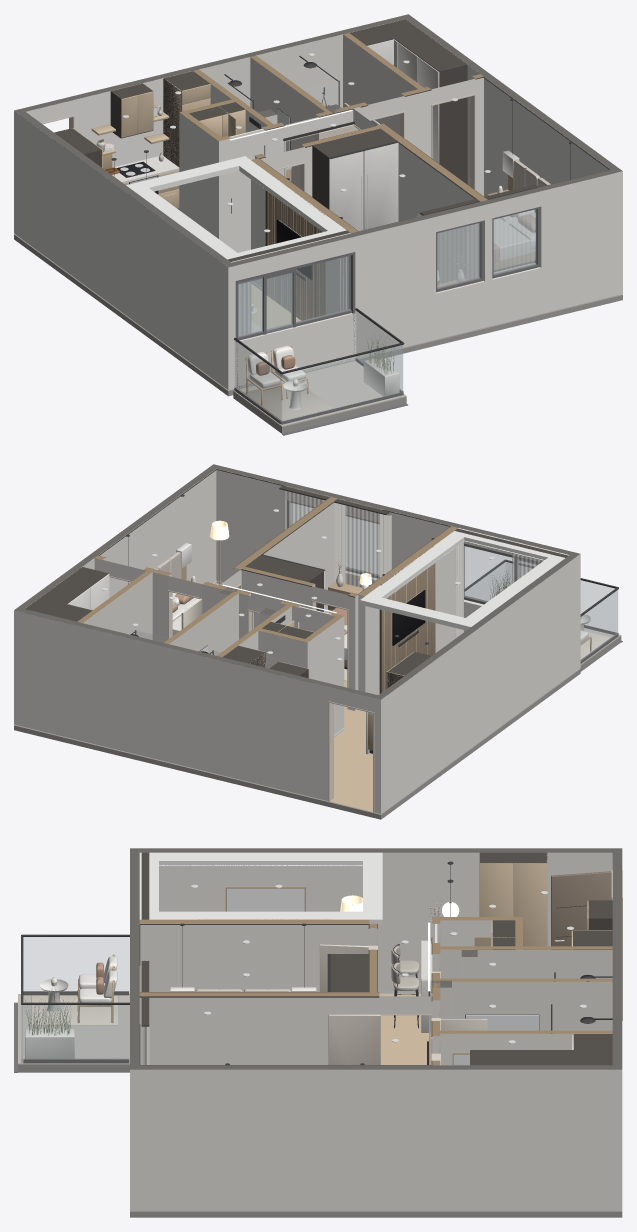
The model's file is apto-102-v5.glb.
3 renders of one model, top to bottom at view 1: azimuth 30°, elevation 25°; view 2: azimuth 150°, elevation 25°; view 3: azimuth 270°, elevation 25°, orthographic. The views are drawn at different scales.
Visible parts, largest first — view 1: ARQ_Muros, PRO_Muros_interiores, ILU_Revestimientos, PROP_Balcon_baranda, ARQ_Dinteles_Antepechos, MOB_Habitacion_2, APA_Cocina, MOB_Vestier, ILU_Cielo_detalles, ILU_Ventana_sala, ILU_Ventaneria, MOB_Sala (+11 smaller); view 2: ARQ_Muros, PRO_Muros_interiores, ILU_Revestimientos, ILU_Cielo_detalles, MOB_Habitacion_2, MOB_Sala, MOB_Habitacion_principal, ARQ_Losa, PROP_Balcon_baranda, ARQ_Dinteles_Antepechos, ARQ_Piso_social, MOB_Vestier (+6 smaller); view 3: ARQ_Muros, PRO_Muros_interiores, PROP_Balcon_baranda, ILU_Revestimientos, ILU_Cielo_detalles, APA_Cocina, MOB_Balcon, PROP_Balcon_losa, ARQ_Losa, MOB_Vestier, ILU_Puerta_entrada, MOB_Sala (+10 smaller).
Boxes of the visible parts, <box> form: ARQ_Muros: <box>14,14,622,390</box>; PRO_Muros_interiores: <box>179,33,487,314</box>; ILU_Revestimientos: <box>91,34,417,187</box>; PROP_Balcon_baranda: <box>234,308,404,424</box>; ARQ_Dinteles_Antepechos: <box>21,97,541,339</box>; MOB_Habitacion_2: <box>286,128,479,287</box>; APA_Cocina: <box>54,71,210,209</box>; MOB_Vestier: <box>349,19,467,184</box>; ILU_Cielo_detalles: <box>126,76,610,262</box>; ILU_Ventana_sala: <box>238,256,351,340</box>; ILU_Ventaneria: <box>436,207,539,292</box>; MOB_Sala: <box>227,174,349,335</box>; ARQ_Muros: <box>14,464,580,813</box>; PRO_Muros_interiores: <box>77,497,457,734</box>; ILU_Revestimientos: <box>83,572,285,655</box>; ILU_Cielo_detalles: <box>98,469,569,630</box>; MOB_Habitacion_2: <box>246,499,434,681</box>; MOB_Sala: <box>379,528,568,693</box>; MOB_Habitacion_principal: <box>126,486,346,635</box>; ARQ_Losa: <box>14,668,580,819</box>; PROP_Balcon_baranda: <box>464,559,618,663</box>; ARQ_Dinteles_Antepechos: <box>285,483,573,712</box>; ARQ_Piso_social: <box>334,711,372,807</box>; MOB_Vestier: <box>25,567,109,621</box>; ARQ_Muros: <box>130,848,622,1210</box>; PRO_Muros_interiores: <box>139,917,612,1065</box>; PROP_Balcon_baranda: <box>21,934,129,1063</box>; ILU_Revestimientos: <box>440,950,612,1033</box>; ILU_Cielo_detalles: <box>139,852,432,1065</box>; APA_Cocina: <box>421,852,612,1032</box>; MOB_Balcon: <box>24,954,118,1058</box>; PROP_Balcon_losa: <box>14,994,129,1072</box>; ARQ_Losa: <box>130,1210,622,1217</box>; MOB_Vestier: <box>452,1034,612,1065</box>; ILU_Puerta_entrada: <box>551,871,611,949</box>; MOB_Sala: <box>141,852,362,919</box>.
Bounding box in the file's own units: 8.07 × 2.59 × 9.4.
64 materials, 7 textured.
